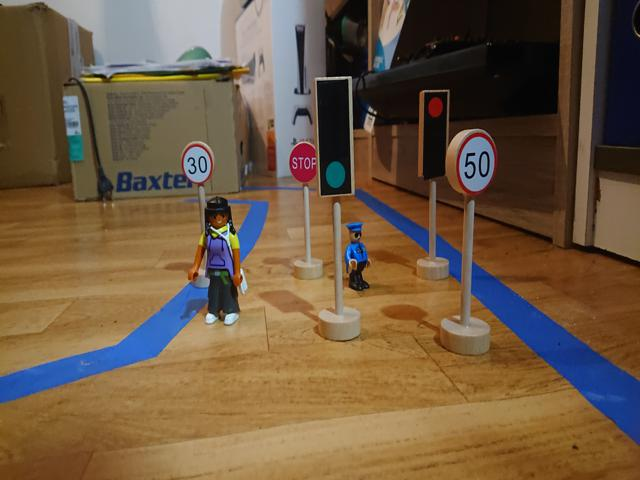30 speed sign: (182, 144, 213, 183)
50 speed sign: (457, 132, 497, 196)
green light: (319, 82, 350, 195)
person: (190, 197, 245, 326), (344, 220, 374, 291)
red light: (424, 93, 444, 179)
stop sign: (287, 142, 318, 183)
